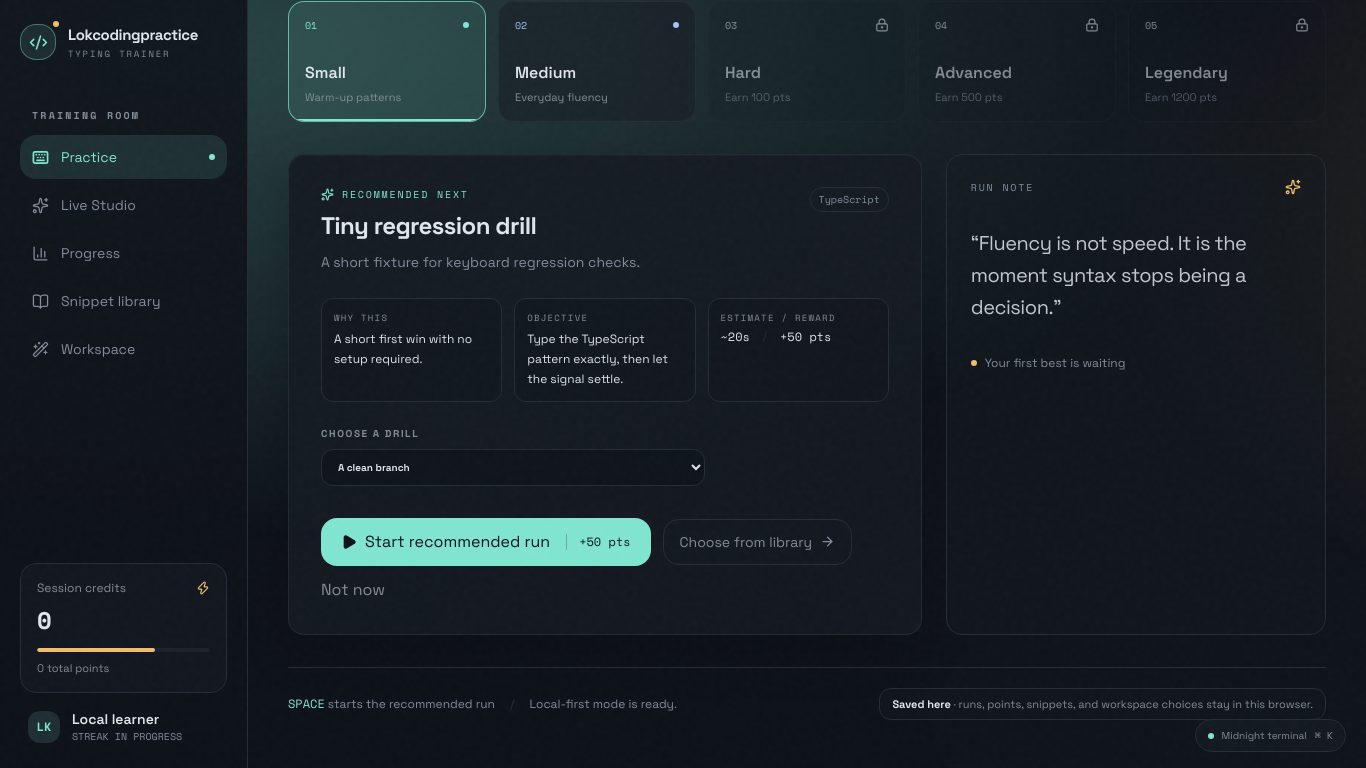
Test case: typing drill regressions › starts a drill, shows correct and incorrect feedback, supports backspace, and records completion scoring
This screenshot has width=1366, height=768.
(page scrolled)
Select "Tiny regression drill · local" in the dropdown with test id "select-practice-snippet" at (513, 467), box [321, 448, 705, 486]
Click the button with test id "button-start-run" at (486, 542), box [321, 518, 651, 566]
(page scrolled)
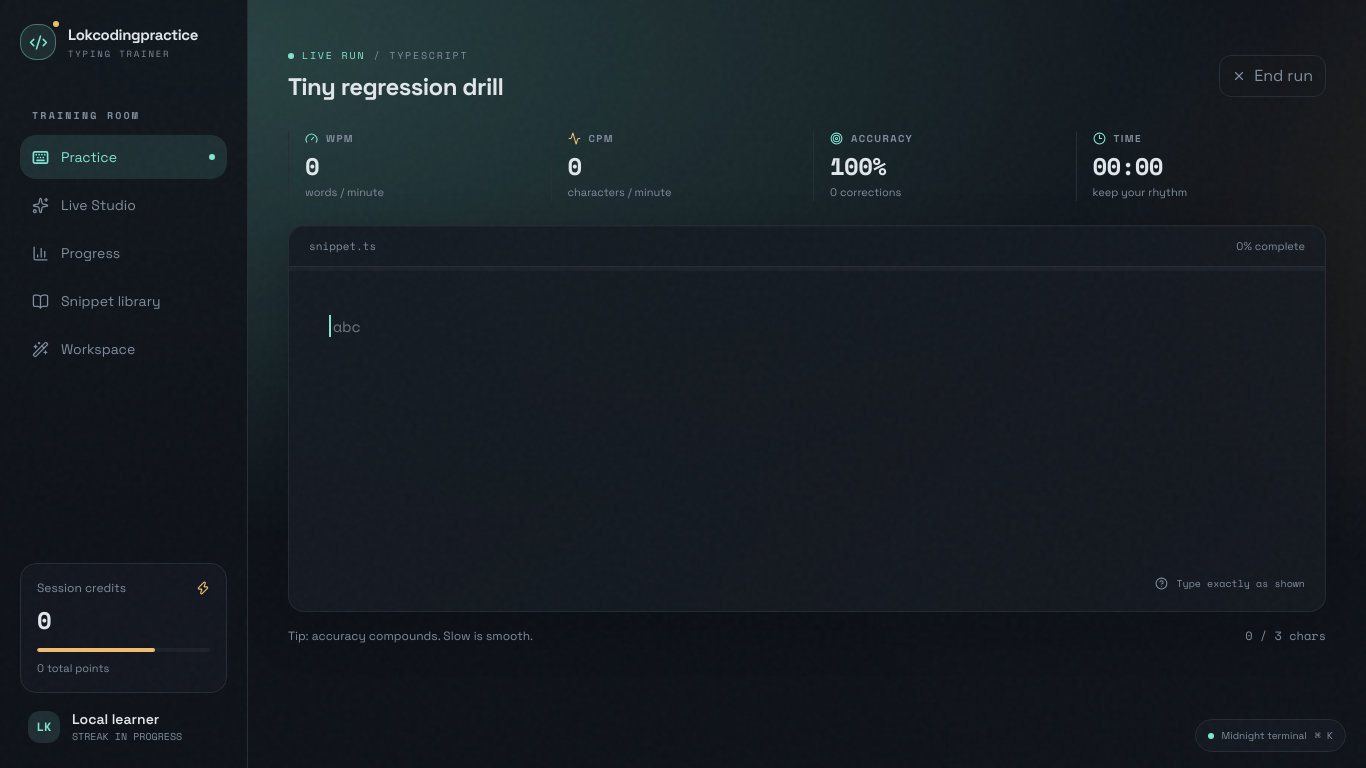
Press a in the field with test id "input-code-capture", box [289, 271, 1325, 611]
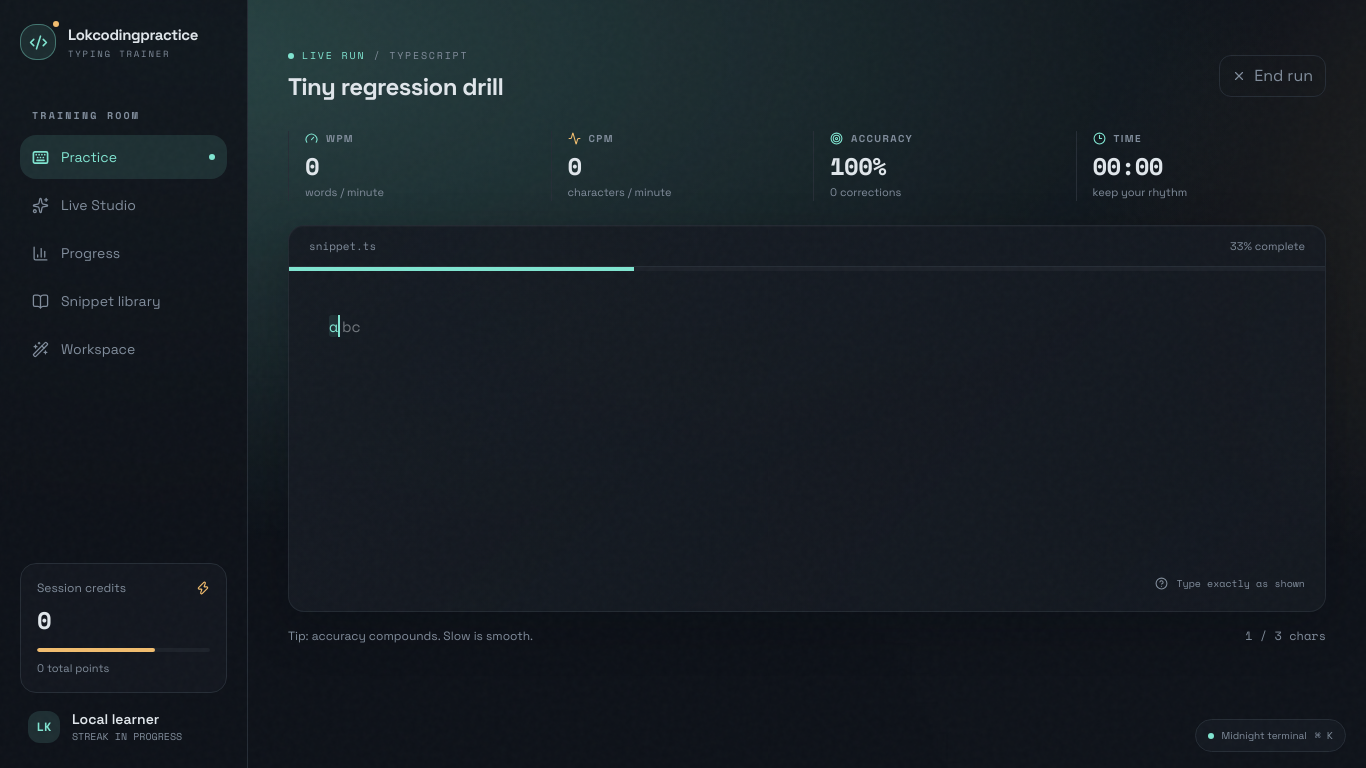
Now the number of elements with class "code-correct" is 1, box [329, 315, 338, 337]
Press x in the field with test id "input-code-capture", box [289, 271, 1325, 611]
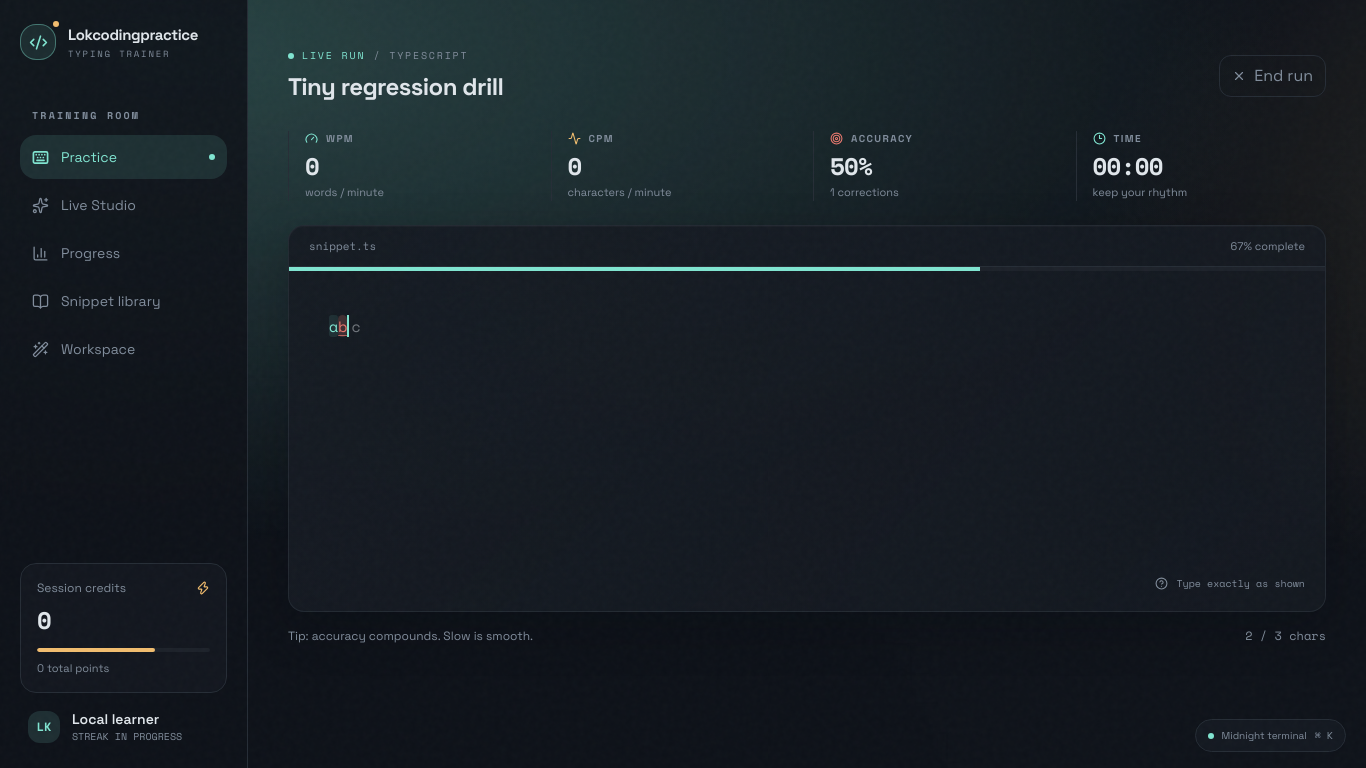
Now the number of elements with class "code-wrong" is 1, box [338, 315, 347, 337]
Now the text with test id "metric-accuracy" reads "50%", box [830, 148, 872, 184]
Press Backspace in the field with test id "input-code-capture", box [289, 271, 1325, 611]
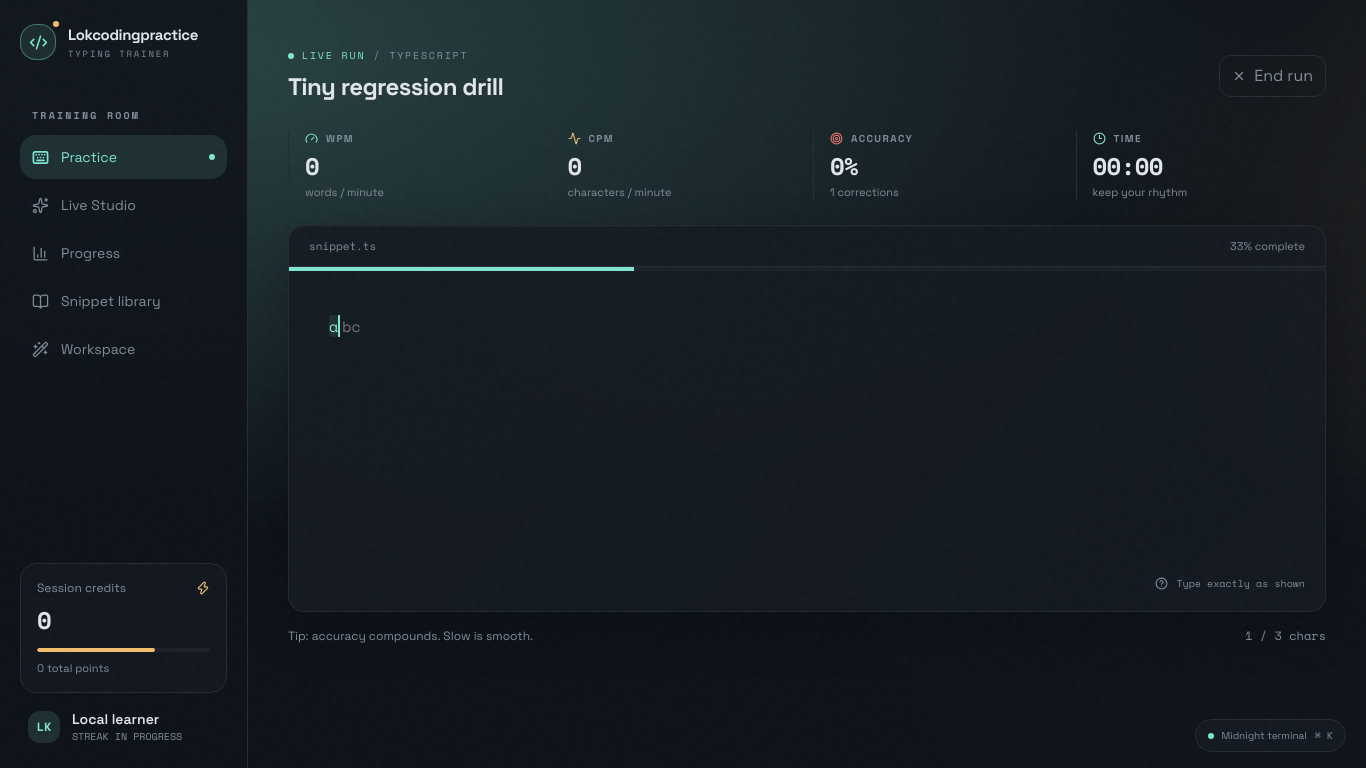
Now the number of elements with class "code-correct" is 1, box [329, 315, 338, 337]
Press b in the field with test id "input-code-capture", box [289, 271, 1325, 611]
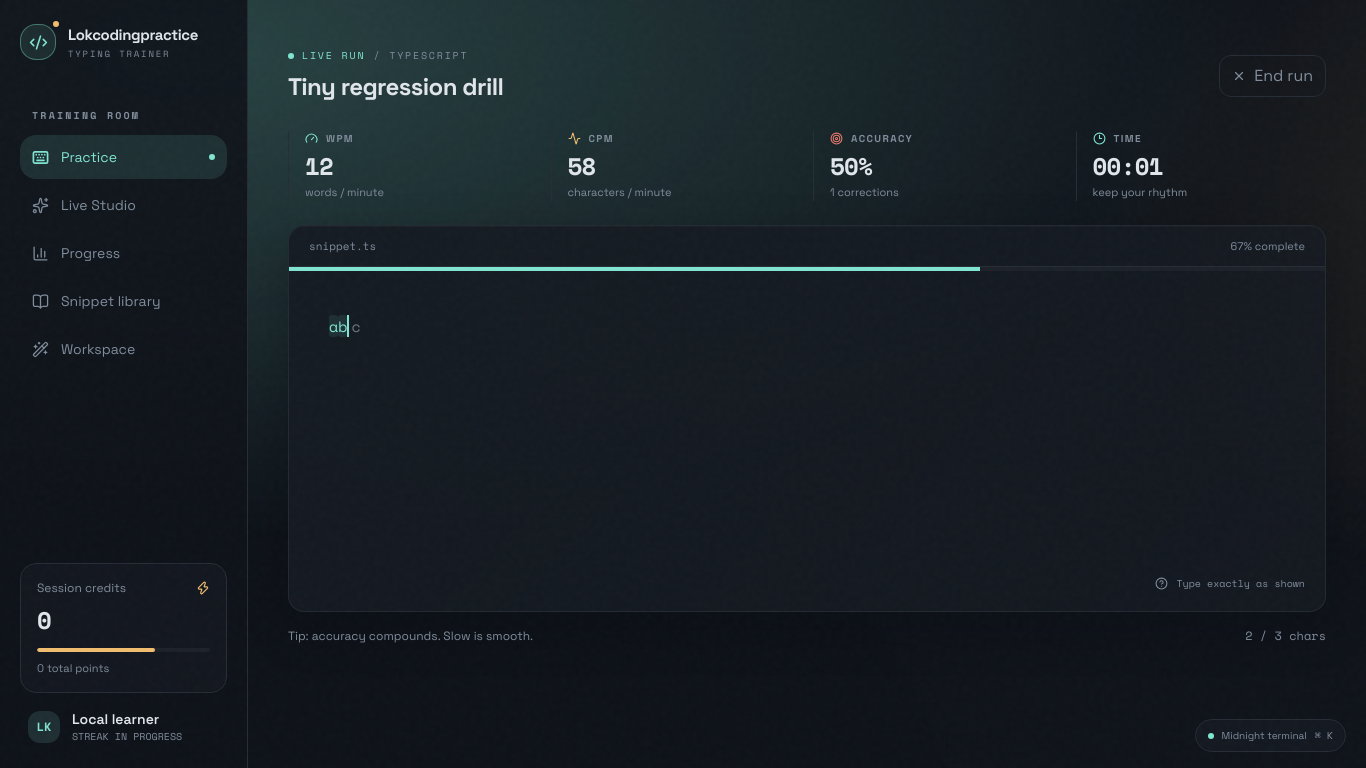
Now the number of elements with class "code-correct" is 2, box [329, 315, 338, 337]; [338, 315, 347, 337]
Press c in the field with test id "input-code-capture", box [289, 271, 1325, 611]
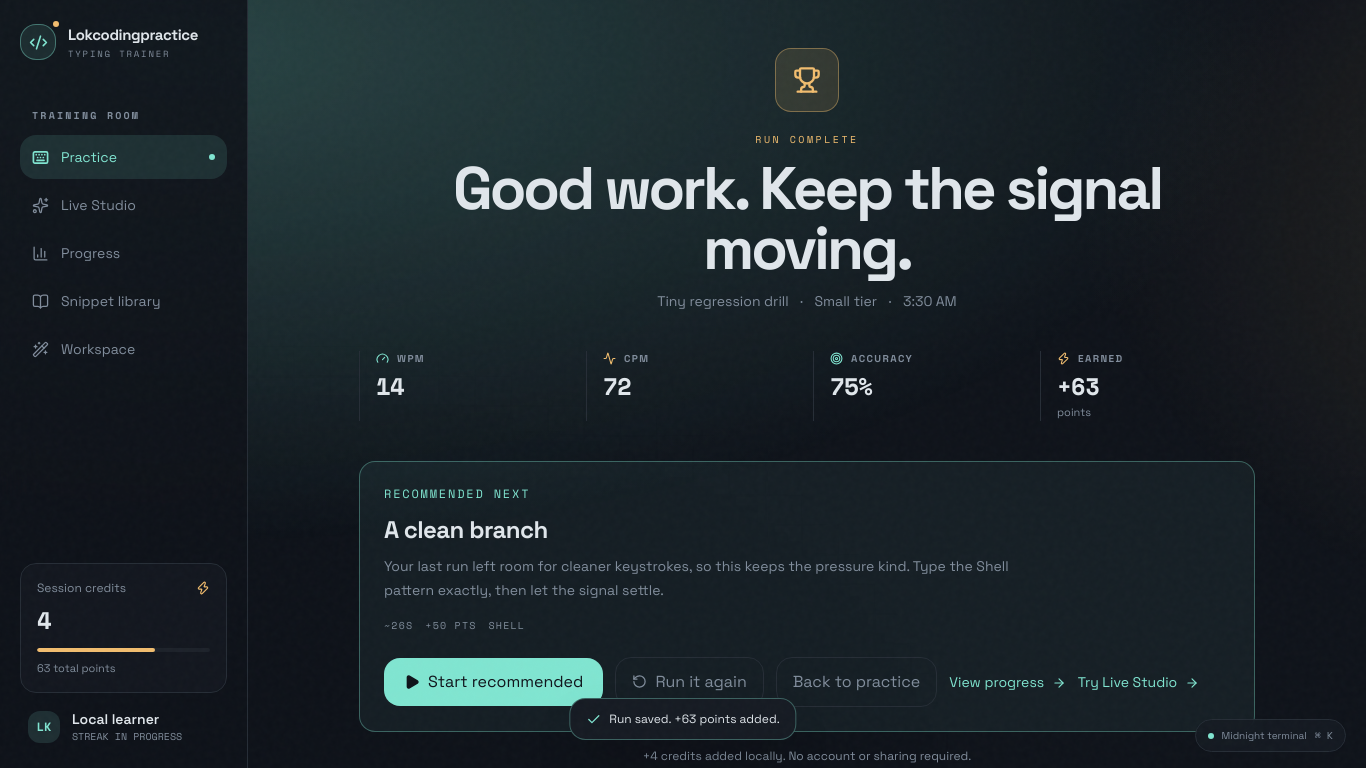
Now the text "Run complete" is shown, box [755, 132, 859, 147]
Now the text with test id "metric-earned" shows "+", box [1057, 368, 1099, 404]
